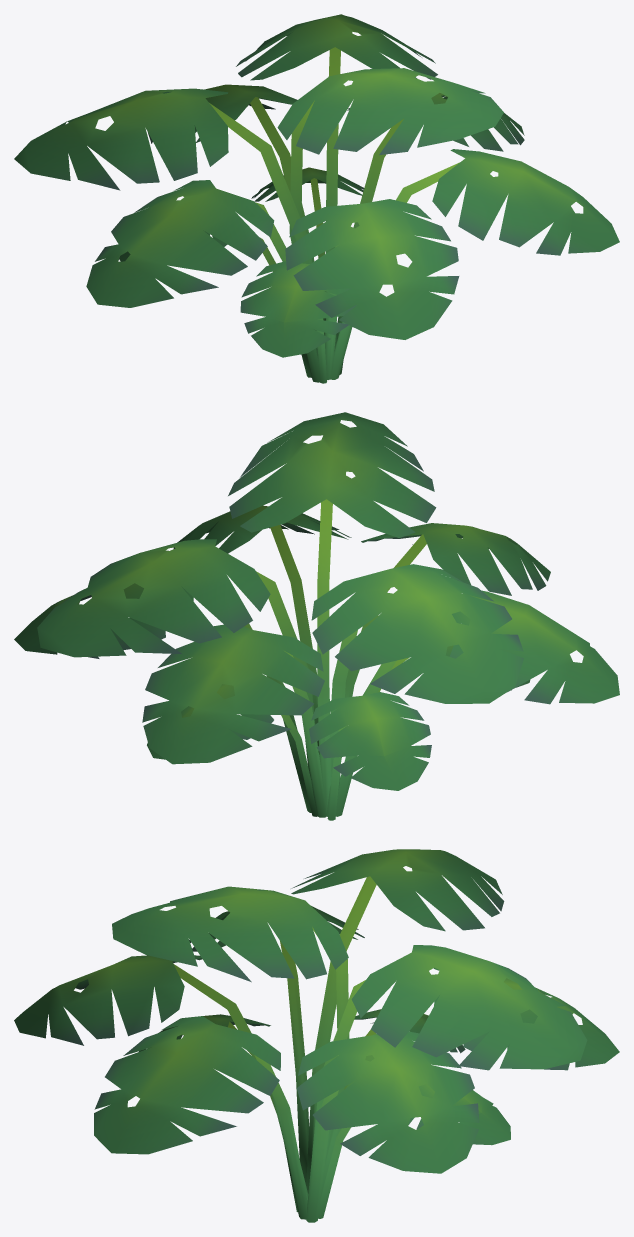
File: BigTigerPlant_Mesh.fbx
3 renders of one model, top to bottom at view 1: azimuth 30°, elevation 25°; view 2: azimuth 150°, elevation 25°; view 3: azimuth 270°, elevation 25°, orthographic. The views are drawn at different scales.
Visible parts, largest first — view 1: BigTigerPlant; view 2: BigTigerPlant; view 3: BigTigerPlant.
Part boxes in pixels (x1,y1,x2,y2): BigTigerPlant: (14, 14, 619, 383); BigTigerPlant: (14, 412, 619, 820); BigTigerPlant: (14, 849, 619, 1222).
Size of the model in its own units: 2.16 by 1.33 by 2.18.
